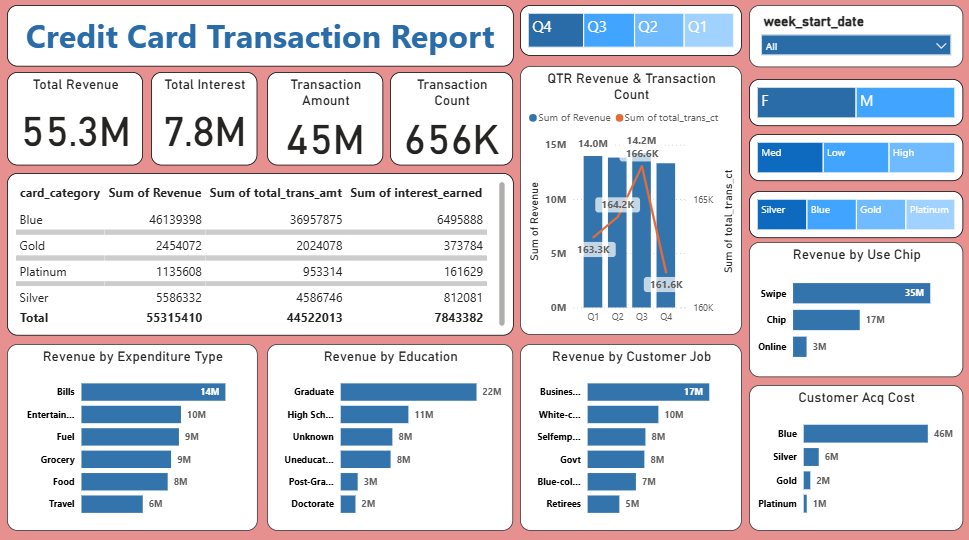

Layout of this report page (visuals, bound fields, positions):
{"tool":"powerbi","page":{"name":"Credit Card Financial Transaction Data Analysis- Dashboard","canvas":[1280,720],"ordinal":1},"visuals":[{"type":"textbox","box":[10.1,10.1,666.5,81],"z":0},{"type":"lineStackedColumnComboChart","title":"QTR Revenue & Transaction Count","fields":{"Category":["public cc_detail.qtr"],"Y":["Sum(public cc_detail.Revenue)"],"Y2":["Sum(public cc_detail.total_trans_ct)"]},"box":[685.3,91.1,292,354.2],"z":1000},{"type":"barChart","title":"Revenue by Expenditure Type","fields":{"Category":["public cc_detail.exp_type"],"Y":["Sum(public cc_detail.Revenue)"]},"box":[10.1,456.9,329.6,245.8],"z":2000},{"type":"barChart","title":"Revenue by Education","fields":{"Category":["public cust_detail.education_level"],"Y":["Sum(public cc_detail.Revenue)"]},"box":[352.8,456.9,323.9,245.8],"z":3000},{"type":"barChart","title":"Revenue by Customer Job","fields":{"Y":["Sum(public cc_detail.Revenue)"],"Category":["public cust_detail.customer_job"]},"box":[685.3,456.9,292,245.8],"z":4000},{"type":"barChart","title":"Customer Acq Cost","fields":{"Category":["public cc_detail.card_category"],"Y":["Sum(public cc_detail.Revenue)"]},"box":[987.5,510.4,281.9,192.3],"z":5000},{"type":"barChart","title":"Revenue by Use Chip","fields":{"Category":["public cc_detail.use_chip"],"Y":["Sum(public cc_detail.Revenue)"]},"box":[987.5,322.4,281.9,177.8],"z":6000},{"type":"tableEx","fields":{"Values":["public cc_detail.card_category","Sum(public cc_detail.Revenue)","Sum(public cc_detail.total_trans_amt)","Sum(public cc_detail.interest_earned)"]},"box":[10.1,231.3,666.5,214],"z":7000},{"type":"card","title":"Total Revenue","fields":{"Values":["Sum(public cc_detail.Revenue)"]},"box":[10.1,98.3,179.3,122.9],"z":8000},{"type":"card","title":"Transaction Amount","fields":{"Values":["Sum(public cc_detail.total_trans_amt)"]},"box":[352.8,98.3,153.3,122.9],"z":9000},{"type":"card","title":"Total Interest","fields":{"Values":["Sum(public cc_detail.interest_earned)"]},"box":[199.5,98.3,140.2,122.9],"z":10000},{"type":"card","title":"Transaction Count","fields":{"Values":["Sum(public cc_detail.total_trans_ct)"]},"box":[514.7,98.3,161.9,122.9],"z":11000},{"type":"slicer","fields":{"Values":["public cc_detail.week_start_date"]},"box":[987.5,10.1,281.9,82.4],"z":12000},{"type":"treemap","fields":{"Group":["public cc_detail.qtr"],"Values":["Avg(public cc_detail.client_num)"]},"box":[686,9.9,292,66.6],"z":13000},{"type":"treemap","fields":{"Group":["public cust_detail.gender"],"Values":["Avg(public cc_detail.client_num)"]},"box":[987.5,108.4,281.9,62.2],"z":14000},{"type":"treemap","fields":{"Group":["public cc_detail.card_category"],"Values":["Avg(public cc_detail.client_num)"]},"box":[987.5,255.9,281.9,62.2],"z":15000},{"type":"treemap","fields":{"Group":["public cust_detail.IncomeGroup"],"Values":["Avg(public cc_detail.client_num)"]},"box":[987.5,180.7,281.9,62.2],"z":16000}]}

Visuals, with their boxes in screenshot pixels (x1, y1, x2, y2), scaled from the page's 1280x720 canvas onto the 969x540 screenshot:
textbox: rect(8, 8, 512, 68)
"QTR Revenue & Transaction Count" lineStackedColumnComboChart: rect(519, 68, 740, 334)
"Revenue by Expenditure Type" barChart: rect(8, 343, 257, 527)
"Revenue by Education" barChart: rect(267, 343, 512, 527)
"Revenue by Customer Job" barChart: rect(519, 343, 740, 527)
"Customer Acq Cost" barChart: rect(748, 383, 961, 527)
"Revenue by Use Chip" barChart: rect(748, 242, 961, 375)
tableEx - public cc_detail.card_category x Sum(public cc_detail.Revenue): rect(8, 173, 512, 334)
"Total Revenue" card: rect(8, 74, 143, 166)
"Transaction Amount" card: rect(267, 74, 383, 166)
"Total Interest" card: rect(151, 74, 257, 166)
"Transaction Count" card: rect(390, 74, 512, 166)
slicer - public cc_detail.week_start_date: rect(748, 8, 961, 69)
treemap - public cc_detail.qtr x Avg(public cc_detail.client_num): rect(519, 7, 740, 57)
treemap - public cust_detail.gender x Avg(public cc_detail.client_num): rect(748, 81, 961, 128)
treemap - public cc_detail.card_category x Avg(public cc_detail.client_num): rect(748, 192, 961, 239)
treemap - public cust_detail.IncomeGroup x Avg(public cc_detail.client_num): rect(748, 136, 961, 182)
